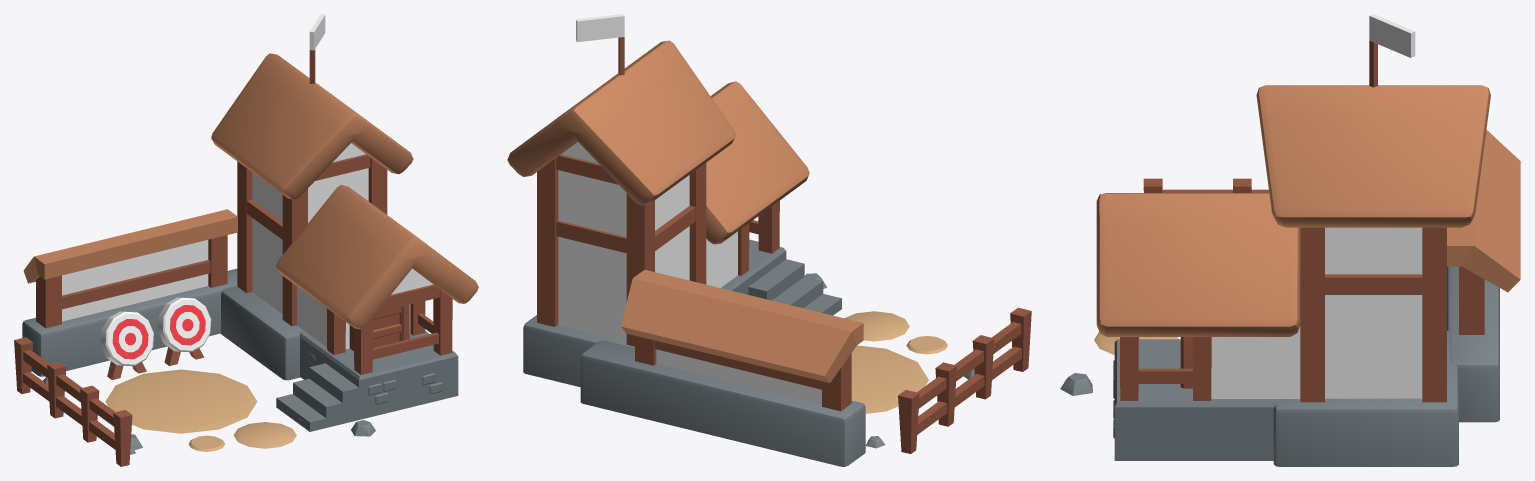
File: archeryrange.glb
3 views of the same model, side by side, from view 1: azimuth 30°, elevation 25°; view 2: azimuth 150°, elevation 25°; view 3: azimuth 270°, elevation 25° (orthographic). The views are drawn at different scales.
Visible parts, largest first — view 1: archeryrange; view 2: archeryrange; view 3: archeryrange.
Boxes of the visible parts, x1,y1,x2,y2 form: archeryrange: (14, 14, 478, 466); archeryrange: (507, 14, 1031, 466); archeryrange: (1060, 14, 1520, 466).
Bounding box in the file's own units: 1.8 × 1.54 × 1.55.
